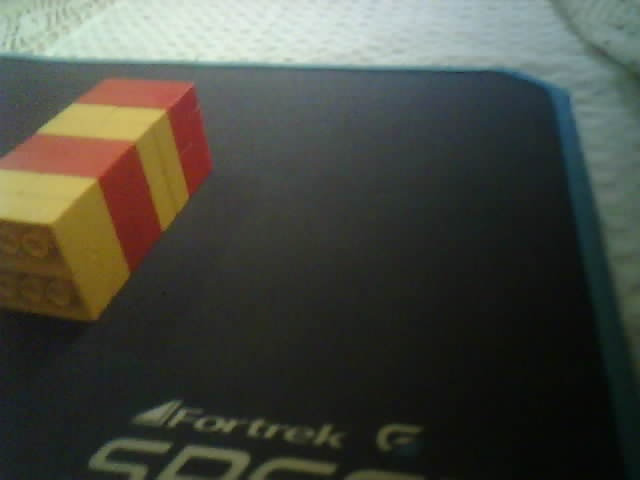lego: (1, 74, 213, 324)
